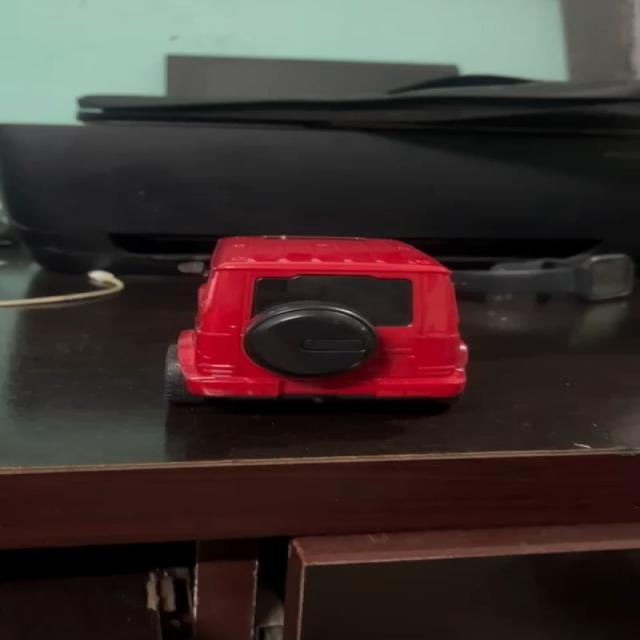light_vehicle: (170, 232, 469, 420)
